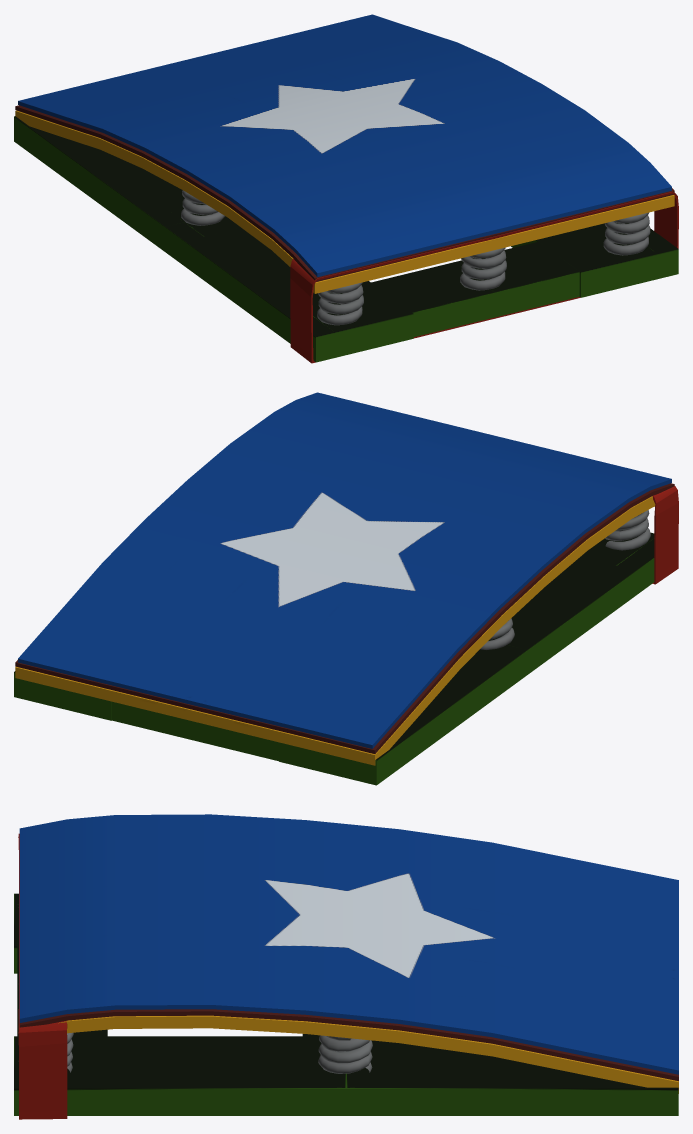
File: Springboard.fbx
3 renders of one model, top to bottom at view 1: azimuth 30°, elevation 25°; view 2: azimuth 150°, elevation 25°; view 3: azimuth 270°, elevation 25°, orthographic. The views are drawn at different scales.
Parts seen in each view (by area): view 1: Springboard6, SpringPlank5, SpringPlank4, Springboard4, SpringPlank6, Band1, Springboard5, Spring3, Spring1, Spring2, Spring6; view 2: Springboard6, SpringPlank5, Springboard4, Springboard5, SpringPlank8, Band1, SpringPlank6, Spring1, SpringPlank4; view 3: Springboard6, SpringPlank6, Springboard4, Band1, Springboard5, Spring4, SpringPlank4.
Part boxes in pixels (x1=…): Springboard6: x1=18, y1=14, x2=671, y2=277; SpringPlank5: x1=14, y1=116, x2=413, y2=362; SpringPlank4: x1=312, y1=241, x2=655, y2=336; Springboard4: x1=15, y1=110, x2=674, y2=293; SpringPlank6: x1=511, y1=222, x2=678, y2=297; Band1: x1=290, y1=191, x2=678, y2=363; Springboard5: x1=15, y1=105, x2=674, y2=281; Spring3: x1=603, y1=212, x2=650, y2=255; Spring1: x1=317, y1=282, x2=363, y2=325; Spring2: x1=460, y1=247, x2=506, y2=290; Spring6: x1=181, y1=190, x2=225, y2=225; Springboard6: x1=18, y1=392, x2=671, y2=748; SpringPlank5: x1=279, y1=532, x2=654, y2=785; Springboard4: x1=15, y1=496, x2=655, y2=765; Springboard5: x1=15, y1=483, x2=674, y2=753; SpringPlank8: x1=112, y1=701, x2=278, y2=761; Band1: x1=652, y1=486, x2=678, y2=584; SpringPlank6: x1=14, y1=671, x2=111, y2=720; Spring1: x1=605, y1=510, x2=650, y2=550; SpringPlank4: x1=580, y1=534, x2=654, y2=565; Springboard6: x1=19, y1=814, x2=678, y2=1074; SpringPlank6: x1=14, y1=1036, x2=678, y2=1115; Springboard4: x1=58, y1=1015, x2=678, y2=1093; Band1: x1=18, y1=833, x2=67, y2=1119; Springboard5: x1=19, y1=1009, x2=678, y2=1081; Spring4: x1=318, y1=1035, x2=372, y2=1073; SpringPlank4: x1=17, y1=904, x2=107, y2=1065.
Size of the model in its own units: 8.42 by 2.21 by 11.98.
